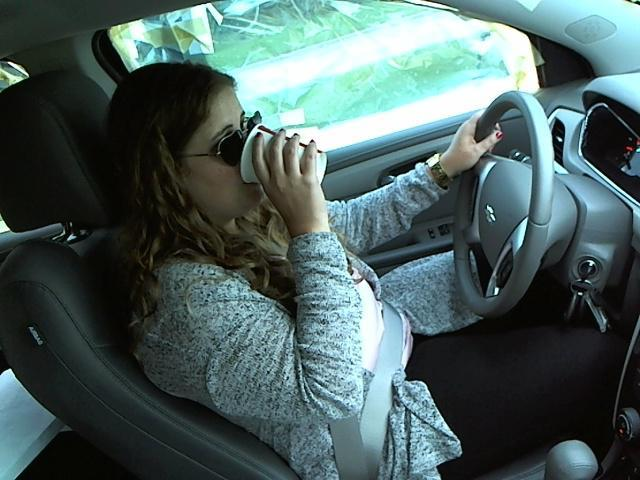Drinking: (115, 61, 326, 219)
